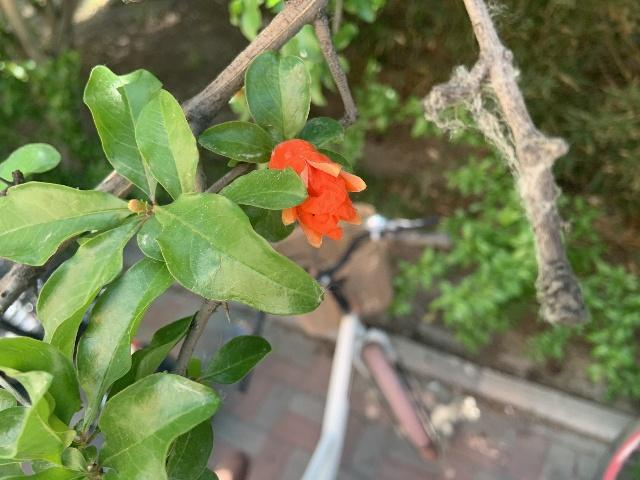flower: (269, 137, 366, 247)
